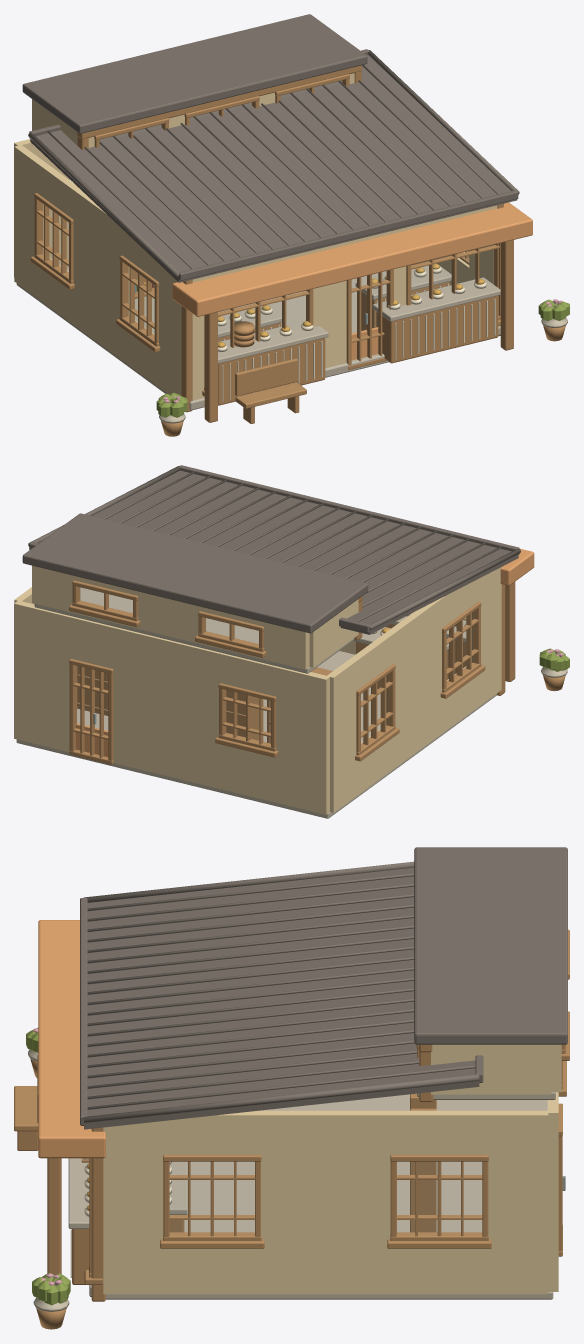
Rendered from 09-A-51606a12bfd3.glb.
3 views of the same model, one above another, from view 1: azimuth 30°, elevation 25°; view 2: azimuth 150°, elevation 25°; view 3: azimuth 270°, elevation 25° (orthographic). The views are drawn at different scales.
Parts seen in each view (by area): view 1: SM_09_02_曲面屋顶, SM_09_01_建筑墙体, SM_09_06_景观设施, SM_09_04_门窗楼梯, SM_09_03_木构回廊, SM_09_05_景观植物; view 2: SM_09_01_建筑墙体, SM_09_02_曲面屋顶, SM_09_04_门窗楼梯, SM_09_06_景观设施, SM_09_03_木构回廊, SM_09_05_景观植物; view 3: SM_09_02_曲面屋顶, SM_09_01_建筑墙体, SM_09_04_门窗楼梯, SM_09_06_景观设施, SM_09_03_木构回廊, SM_09_05_景观植物.
Boxes of the visible parts, <box> form: SM_09_02_曲面屋顶: <box>22,14,532,316</box>; SM_09_01_建筑墙体: <box>14,73,500,410</box>; SM_09_06_景观设施: <box>135,263,500,423</box>; SM_09_04_门窗楼梯: <box>30,74,500,396</box>; SM_09_03_木构回廊: <box>77,65,513,422</box>; SM_09_05_景观植物: <box>156,299,569,436</box>; SM_09_01_建筑墙体: <box>14,565,501,818</box>; SM_09_02_曲面屋顶: <box>22,465,534,634</box>; SM_09_04_门窗楼梯: <box>69,580,485,764</box>; SM_09_06_景观设施: <box>77,613,466,743</box>; SM_09_03_木构回廊: <box>354,566,515,695</box>; SM_09_05_景观植物: <box>539,648,569,691</box>; SM_09_02_曲面屋顶: <box>38,847,567,1158</box>; SM_09_01_建筑墙体: <box>89,1044,561,1299</box>; SM_09_04_门窗楼梯: <box>81,929,569,1284</box>; SM_09_06_景观设施: <box>14,1055,436,1284</box>; SM_09_03_木构回廊: <box>47,1044,433,1301</box>; SM_09_05_景观植物: <box>26,1027,70,1329</box>.
Bounding box in the file's own units: 10.72 × 4.84 × 9.42.
